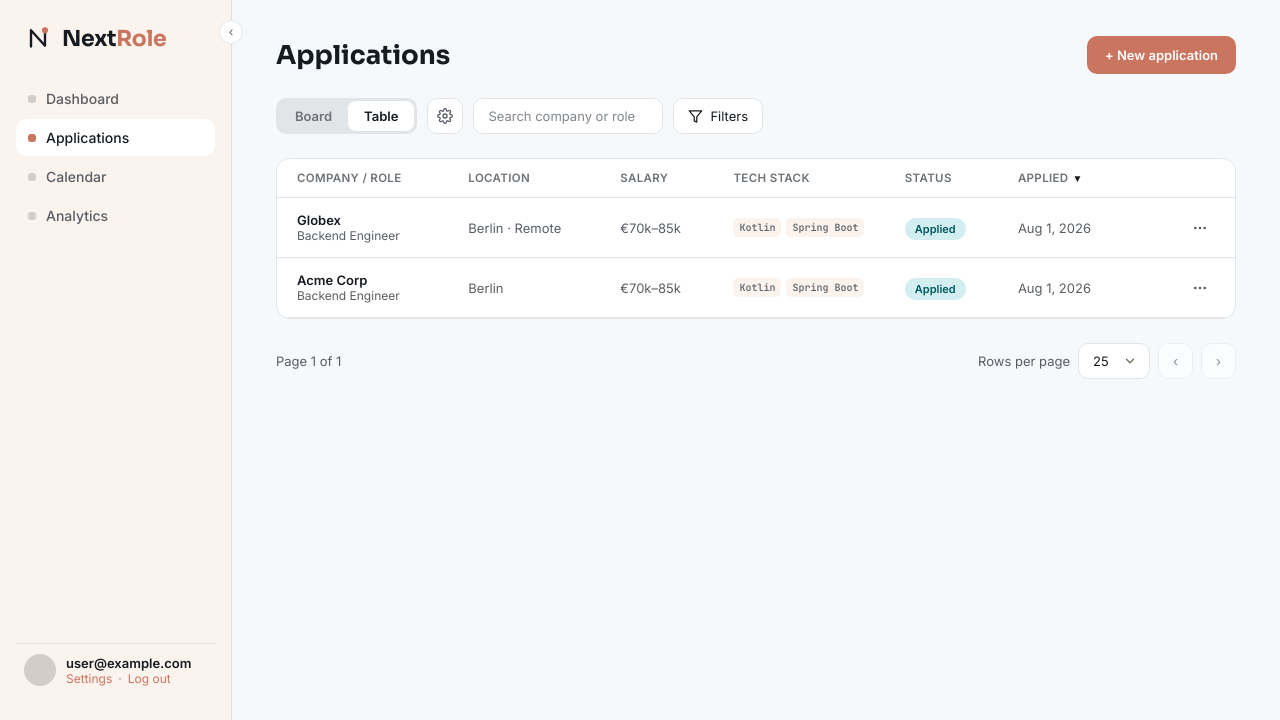
Test: ApplicationsPage › filters applications by work mode
The image size is (1280, 720).
Expected: the text "Acme Corp" is shown, [297,272,367,288]
Click the button "Filters" at [718, 116], box [673,98,763,134]
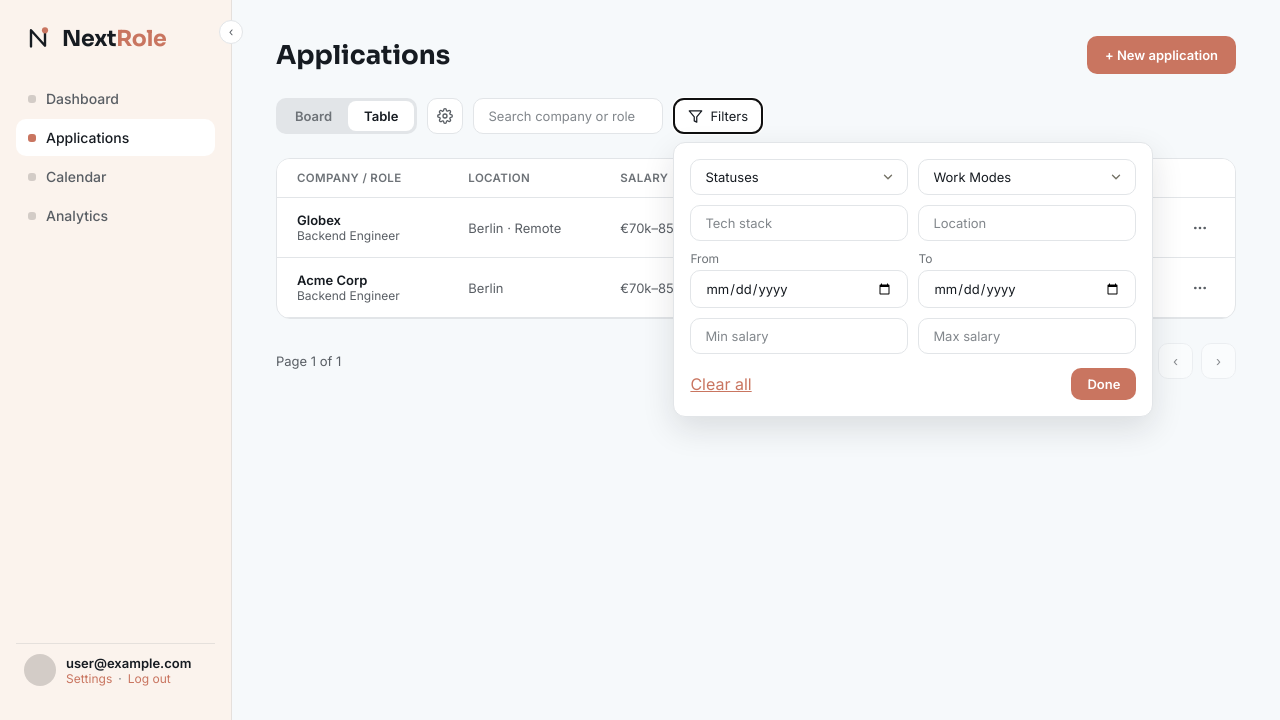
Select "Remote" in the 2nd dropdown showing "Work Modes" at [1027, 177], box [918,159,1136,195]
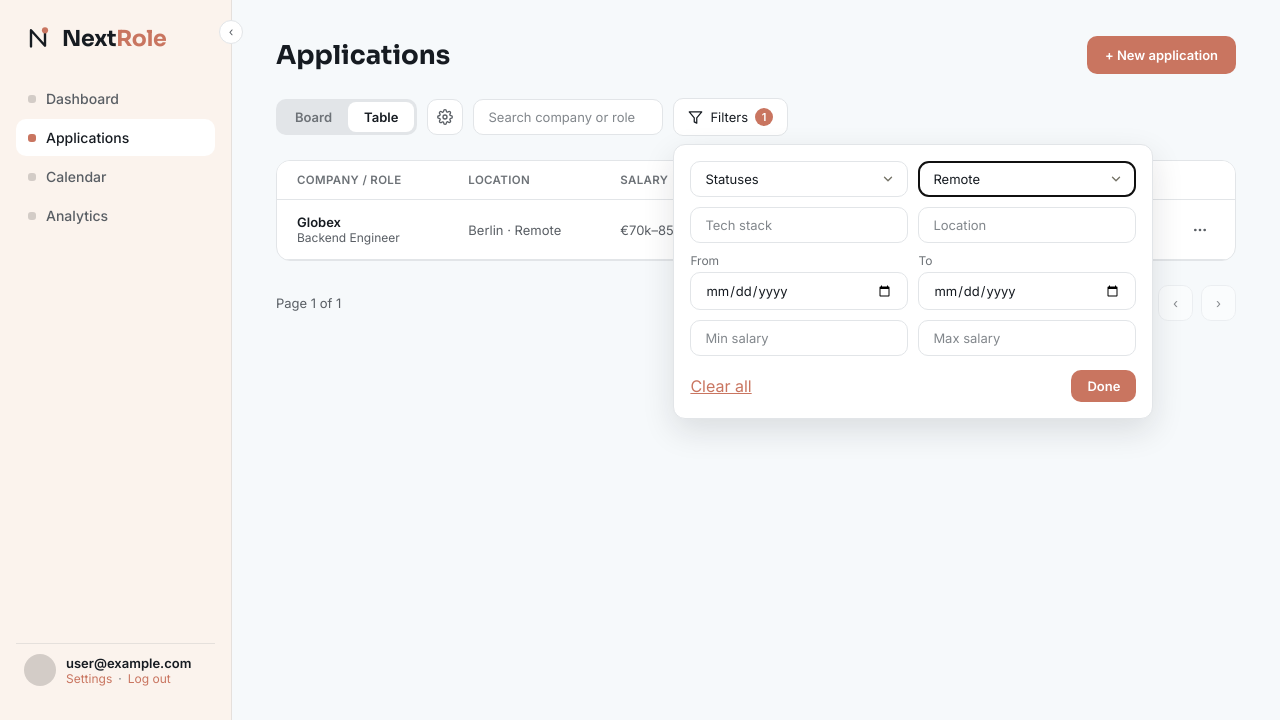
Expected: the text "Globex" is shown, [297,214,341,230]
Expected: the text "Acme Corp" is gone
